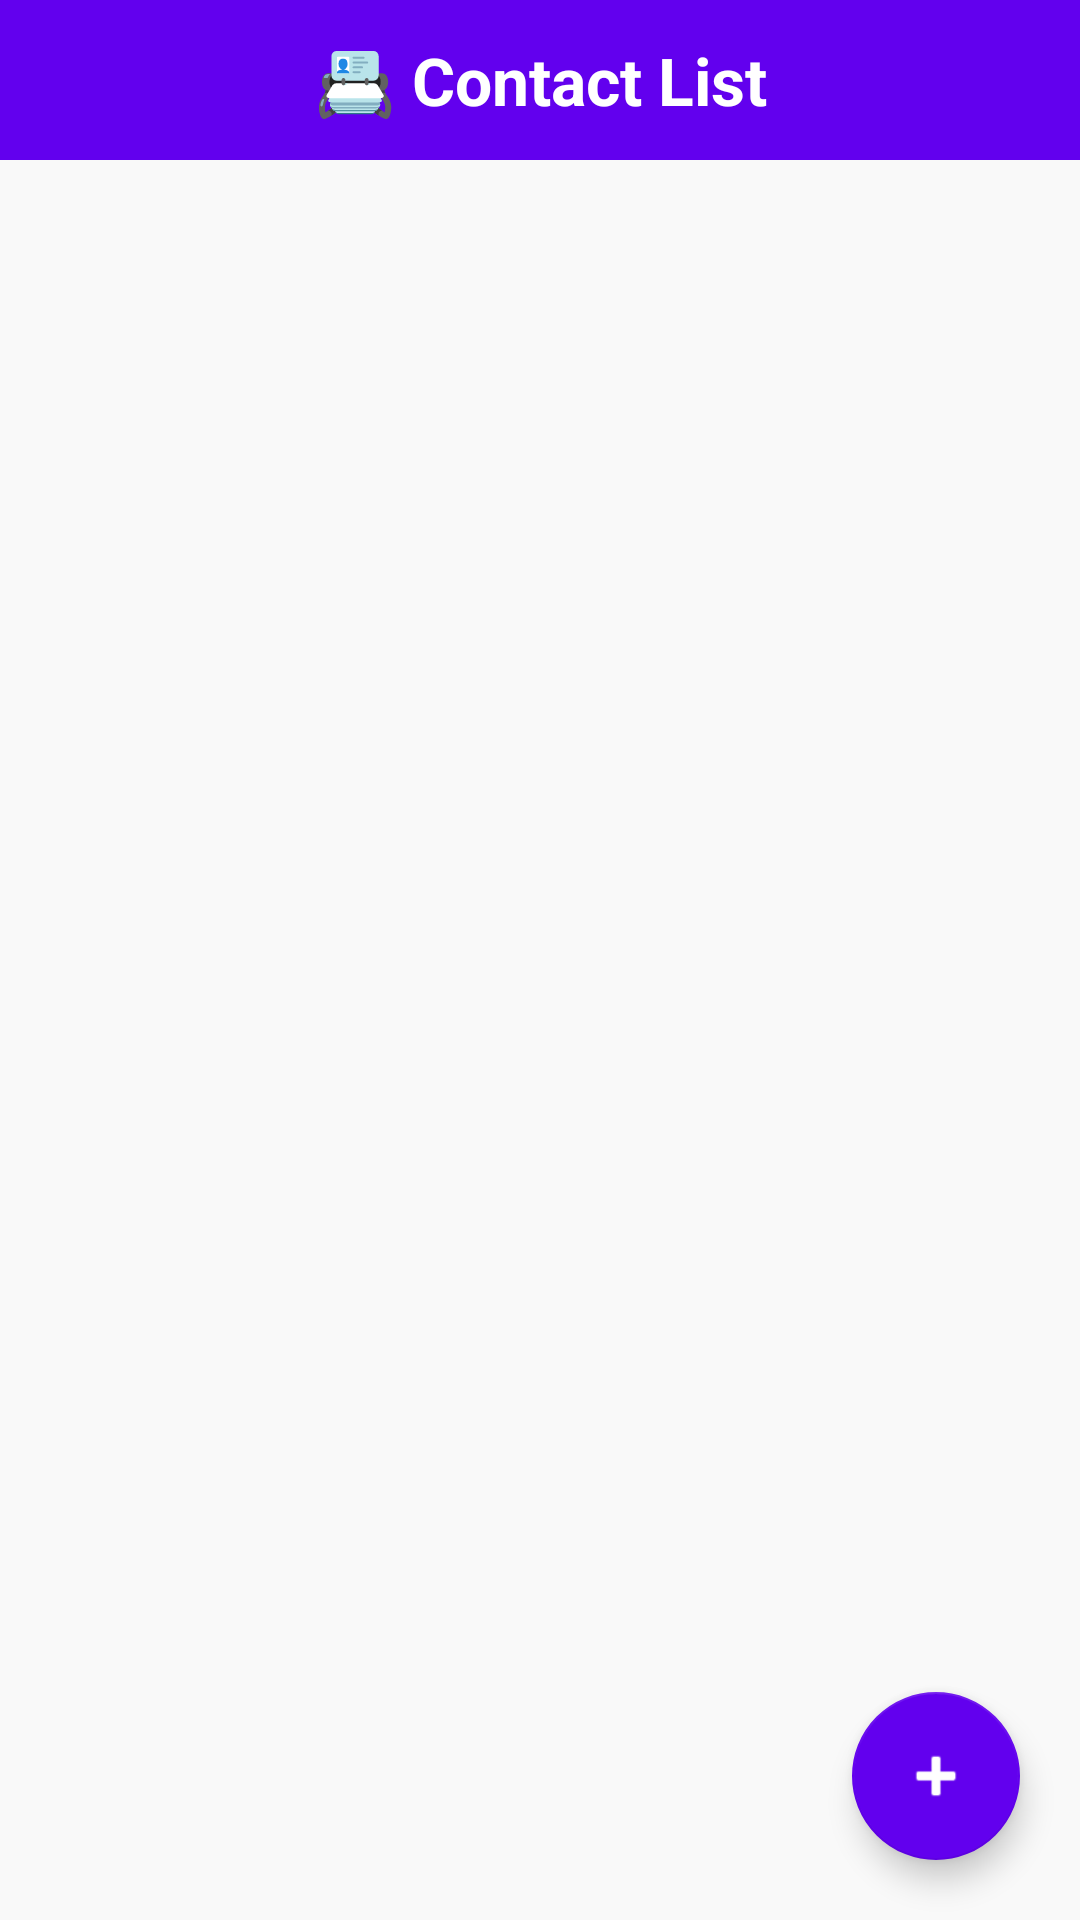

Icons on this 1080px×1920px Android screen, each with its box as [x1, y1, x2, y2]:
Add Contact: [852, 1692, 1020, 1860]
